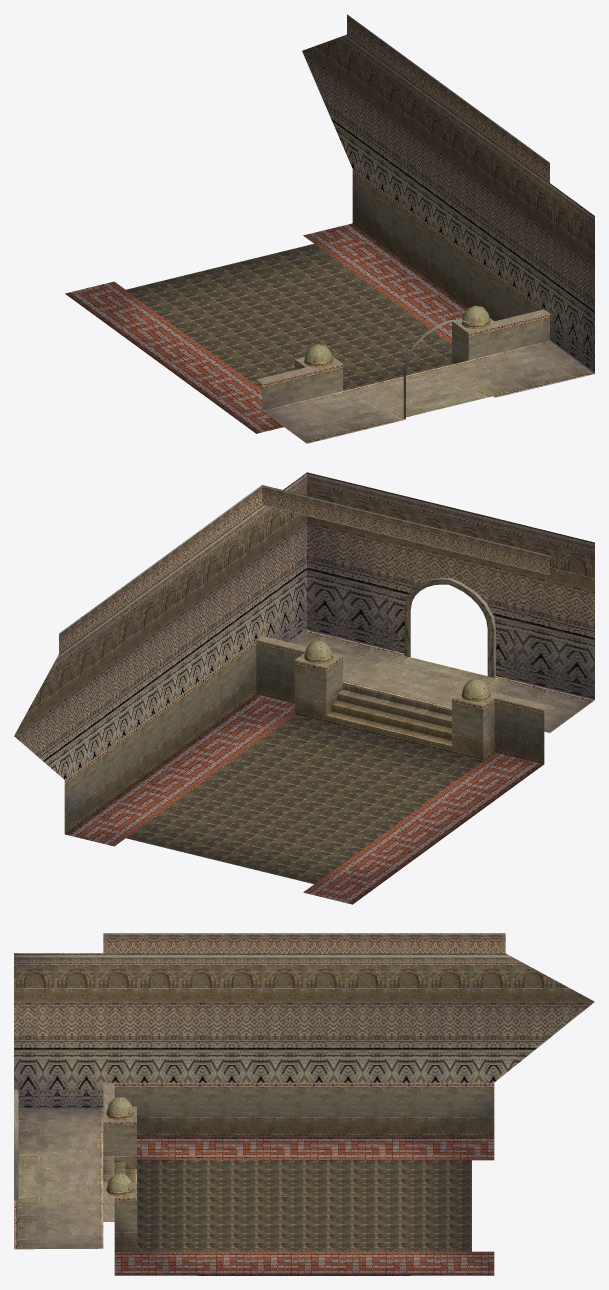
The model's file is M7_CourtYard_Small02.glb.
3 views of the same model, one above another, from view 1: azimuth 30°, elevation 25°; view 2: azimuth 150°, elevation 25°; view 3: azimuth 270°, elevation 25° (orthographic).
Visible parts, largest first — view 1: M7_COURTYARD_SMALL02; view 2: M7_COURTYARD_SMALL02; view 3: M7_COURTYARD_SMALL02.
Part boxes in pixels (x1,y1,x2,y2): M7_COURTYARD_SMALL02: (65, 14, 594, 443); M7_COURTYARD_SMALL02: (14, 472, 594, 904); M7_COURTYARD_SMALL02: (14, 933, 594, 1275).
Size of the model in its own units: 11.1 by 7.55 by 19.55.
9 materials, 9 textured.
